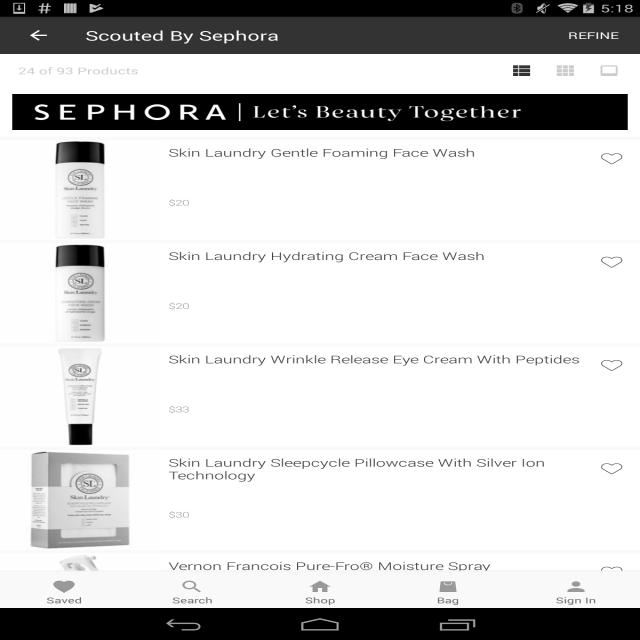CheckBox: (592, 248, 632, 274), (592, 558, 632, 584), (592, 352, 632, 377), (592, 146, 632, 170), (592, 456, 632, 480)
ImageButton: (9, 17, 68, 54)
ImageView: (0, 87, 640, 137), (0, 140, 160, 240), (0, 244, 160, 344), (0, 346, 160, 446), (0, 450, 160, 550), (0, 553, 160, 640), (51, 573, 77, 595), (179, 573, 205, 595), (307, 573, 333, 595), (435, 573, 461, 595), (563, 573, 589, 595), (596, 62, 622, 78), (509, 62, 534, 78), (553, 62, 578, 78)
TextView: (168, 456, 592, 482), (168, 145, 592, 160), (168, 249, 592, 263), (168, 352, 592, 366), (168, 559, 592, 573), (85, 26, 279, 44), (555, 19, 632, 52), (18, 64, 139, 77), (37, 595, 91, 607), (165, 595, 219, 607), (293, 595, 347, 607), (421, 595, 475, 607), (549, 595, 603, 607), (168, 300, 192, 312), (168, 197, 192, 208), (168, 509, 192, 520), (168, 404, 192, 414)
